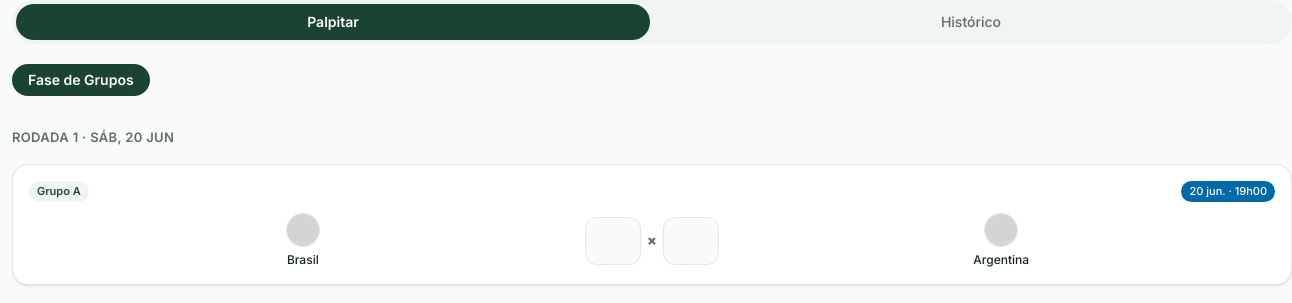
Test: PalpitesContent › saneia o input de texto: ignora não-dígitos e limita o placar a 20
In the field named "gols do brasil": [613, 240] box [585,216,641,264], type "a9b9"
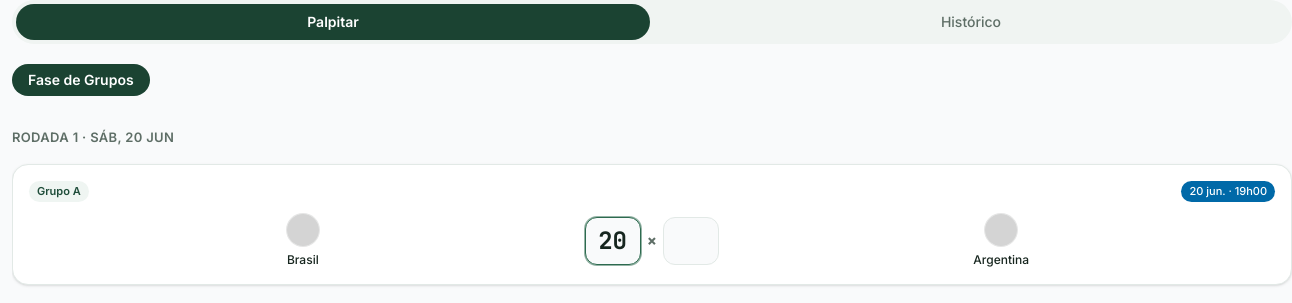
Now the field named "gols do brasil" holds "20", box [585,216,641,264]
